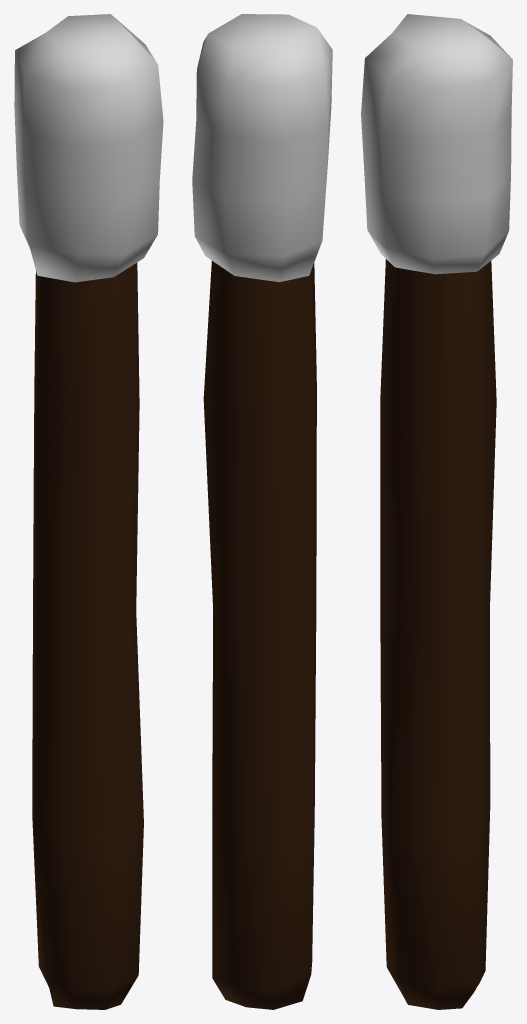
File: Torch.fbx
3 views of the same model, side by side, from view 1: azimuth 30°, elevation 25°; view 2: azimuth 150°, elevation 25°; view 3: azimuth 270°, elevation 25° (orthographic).
Visible parts, largest first — view 1: Cube.012; view 2: Cube.012; view 3: Cube.012.
Part boxes in pixels (box(x1,y1,x2,y2)): Cube.012: box(14, 14, 163, 1009); Cube.012: box(192, 14, 332, 1009); Cube.012: box(361, 14, 512, 1009).
Size of the model in its own units: 6.84 by 49.7 by 7.07.
